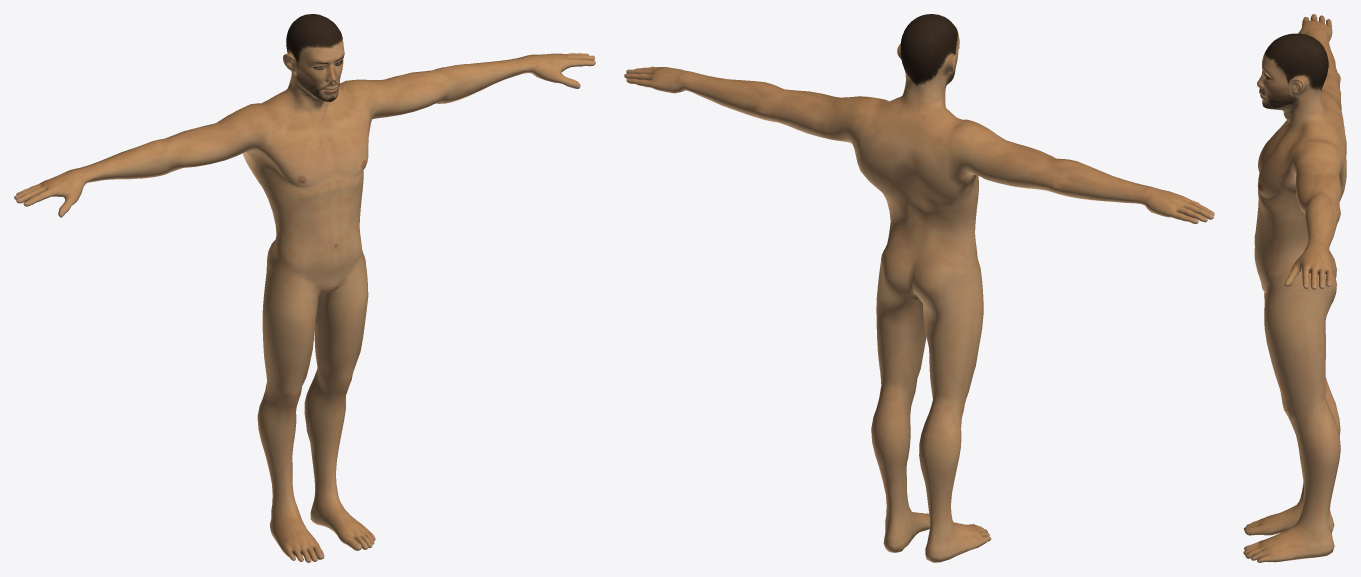
Rendered from asiat.obj.
3 views of the same model, side by side, from view 1: azimuth 30°, elevation 25°; view 2: azimuth 150°, elevation 25°; view 3: azimuth 270°, elevation 25° (orthographic). The views are drawn at different scales.
Visible parts, largest first — view 1: Body; view 2: Body; view 3: Body.
Part boxes in pixels (x1,y1,x2,y2): Body: (14, 14, 595, 562); Body: (624, 14, 1214, 562); Body: (1243, 14, 1346, 562).
Size of the model in its own units: 209 by 180 by 33.14.
